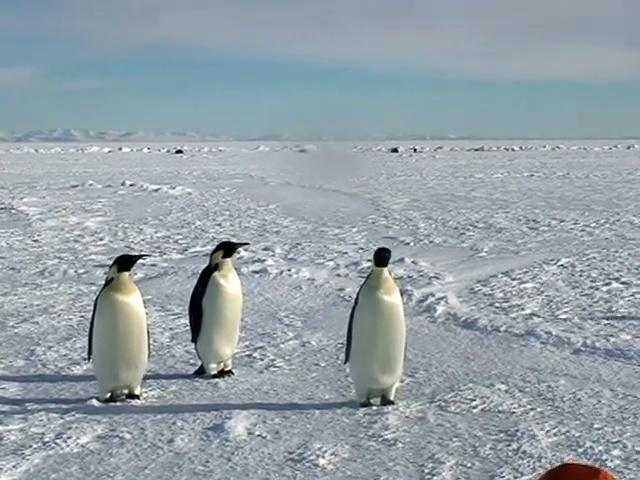animal: (344, 247, 405, 405)
